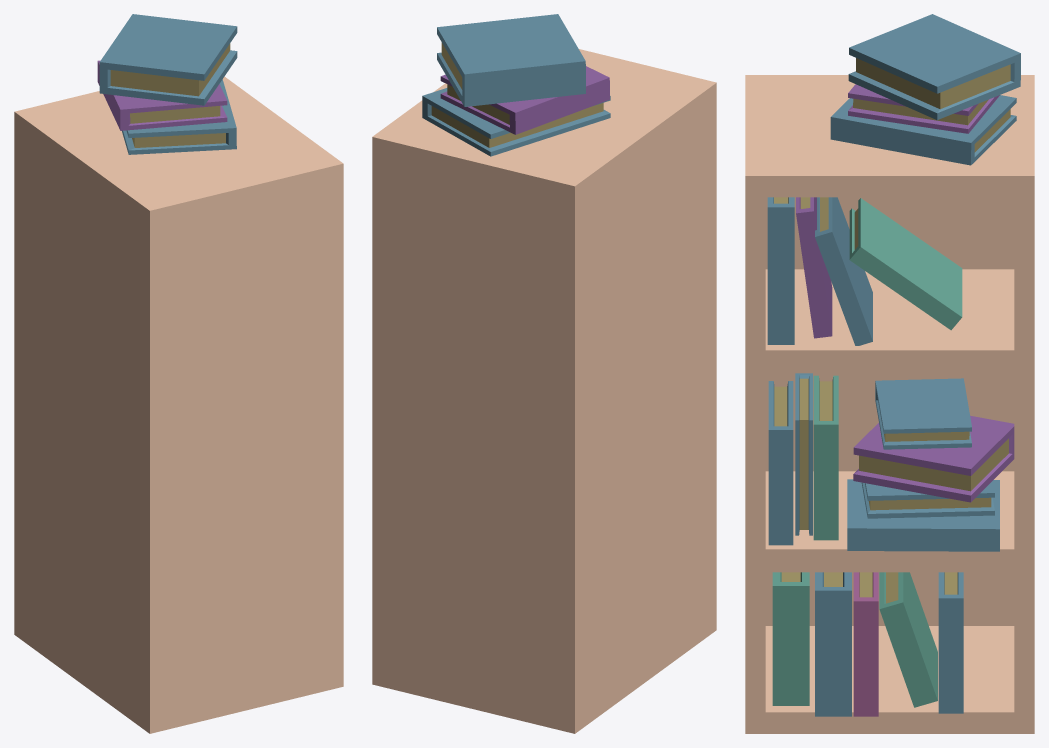
Rendered from BookshelfFull.fbx.
3 renders of one model, left to right at view 1: azimuth 30°, elevation 25°; view 2: azimuth 150°, elevation 25°; view 3: azimuth 270°, elevation 25°, orthographic. The views are drawn at different scales.
Visible parts, largest first — view 1: full_bookself; view 2: full_bookself; view 3: full_bookself.
Part boxes in pixels (x1,y1,x2,y2): full_bookself: (14, 14, 343, 733); full_bookself: (372, 14, 716, 733); full_bookself: (745, 14, 1034, 733).
Size of the model in its own units: 26.71 by 75.75 by 31.06.
